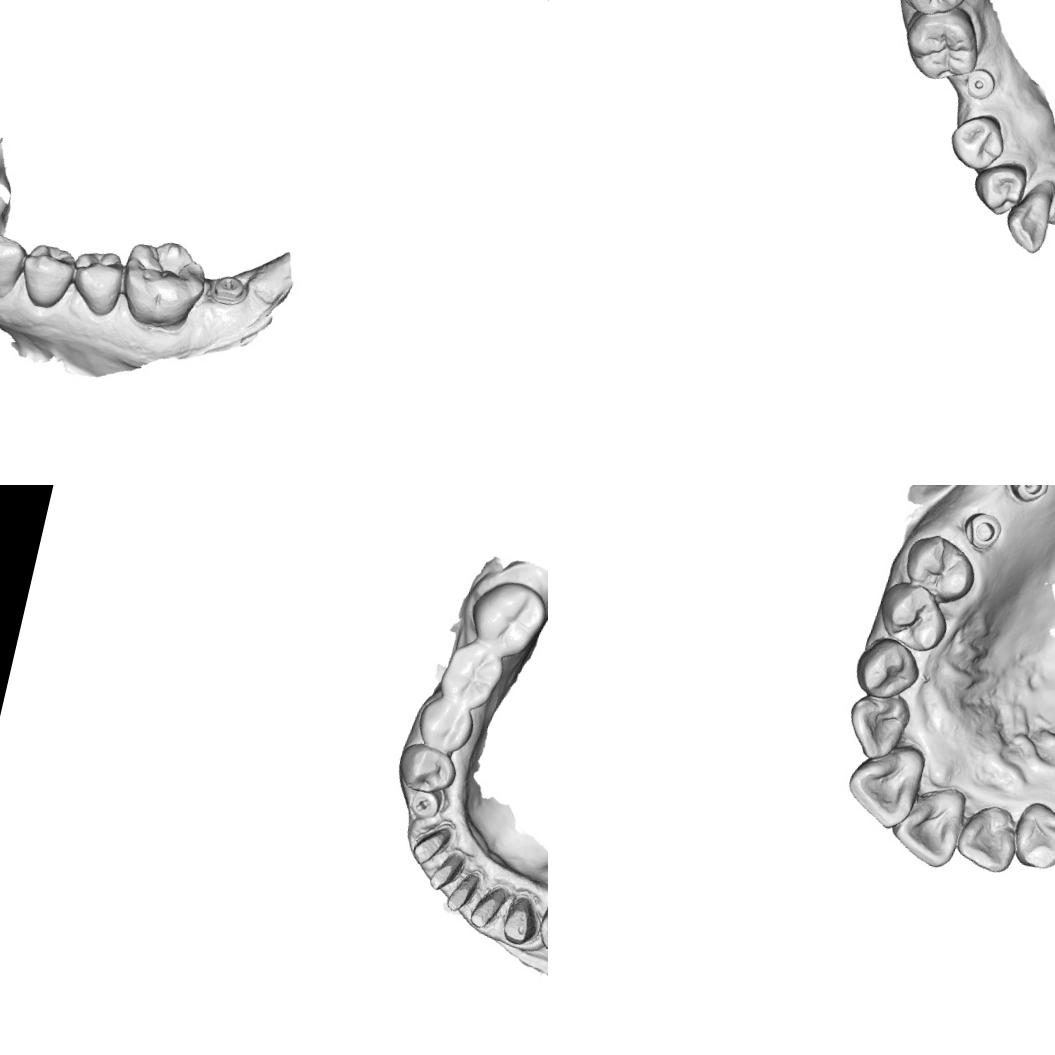canine: (848, 631, 926, 709), (999, 171, 1055, 255), (1006, 796, 1055, 875), (0, 228, 30, 304)
crown: (495, 890, 544, 950), (404, 817, 456, 871), (465, 876, 511, 936), (423, 844, 468, 902), (440, 864, 484, 919)
implant: (961, 506, 1007, 555), (962, 64, 1000, 104), (1000, 485, 1053, 509)
implant_minus: (402, 783, 446, 823), (210, 270, 250, 308)
incisor: (882, 785, 970, 873), (838, 744, 924, 834), (950, 804, 1023, 878), (840, 688, 907, 763)
molar: (114, 232, 213, 338), (894, 0, 989, 91), (460, 570, 548, 664), (432, 631, 512, 717), (887, 0, 977, 22)
premolar: (870, 575, 956, 657), (898, 528, 984, 608), (14, 238, 81, 314), (65, 244, 130, 320), (944, 105, 1011, 176), (409, 693, 479, 759), (390, 737, 462, 800), (968, 153, 1030, 220), (533, 891, 548, 962)
